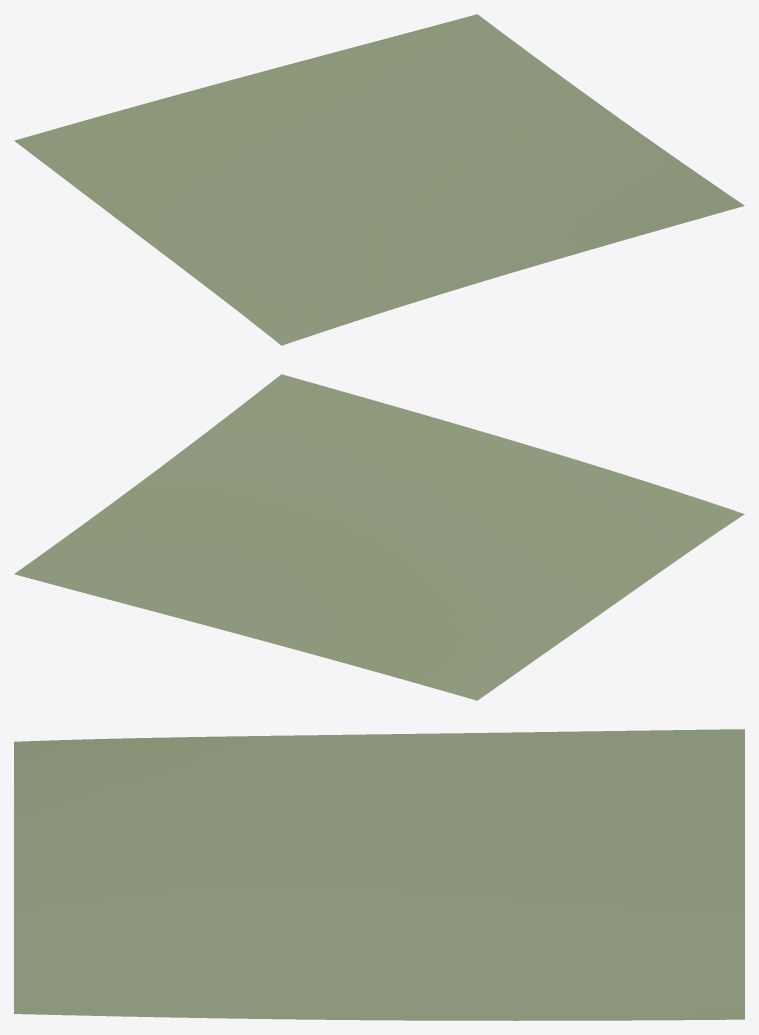
File: expanse-8-6.glb
3 renders of one model, top to bottom at view 1: azimuth 30°, elevation 25°; view 2: azimuth 150°, elevation 25°; view 3: azimuth 270°, elevation 25°, orthographic. The views are drawn at different scales.
Visible parts, largest first — view 1: expanse-8-6; view 2: expanse-8-6; view 3: expanse-8-6.
Part boxes in pixels (x1,y1,x2,y2): expanse-8-6: (14, 14, 744, 345); expanse-8-6: (14, 374, 744, 700); expanse-8-6: (14, 729, 744, 1020).
Size of the model in its own units: 256 by 14.19 by 256.
